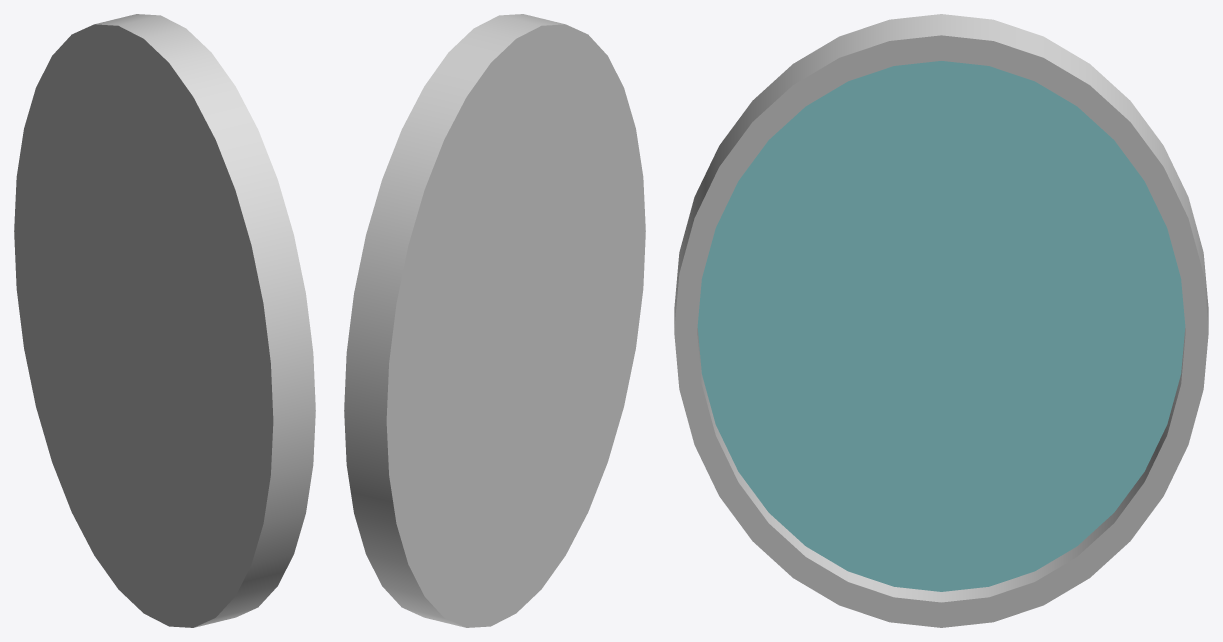
The model's file is espejoBaño1.fbx.
3 views of the same model, side by side, from view 1: azimuth 30°, elevation 25°; view 2: azimuth 150°, elevation 25°; view 3: azimuth 270°, elevation 25° (orthographic). The views are drawn at different scales.
Visible parts, largest first — view 1: EspejoBaño1; view 2: EspejoBaño1; view 3: EspejoBaño1.
Part boxes in pixels (left/top/right/bottom): EspejoBaño1: left=14, top=14, right=315, bottom=627; EspejoBaño1: left=344, top=14, right=645, bottom=627; EspejoBaño1: left=674, top=14, right=1208, bottom=627.
Size of the model in its own units: 119 by 1541 by 1260.
